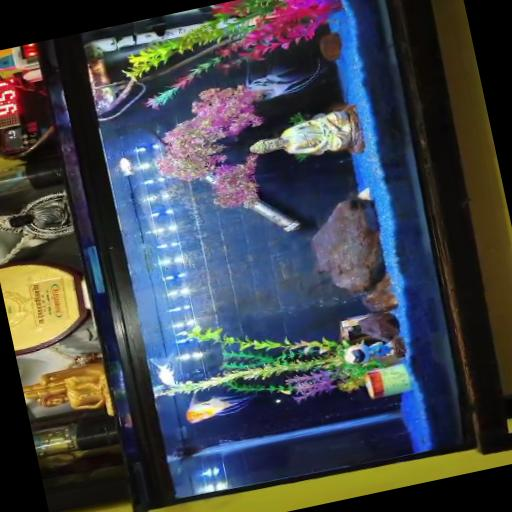Fish: (245, 58, 321, 98), (186, 393, 255, 422), (149, 355, 177, 385), (119, 157, 134, 175)
